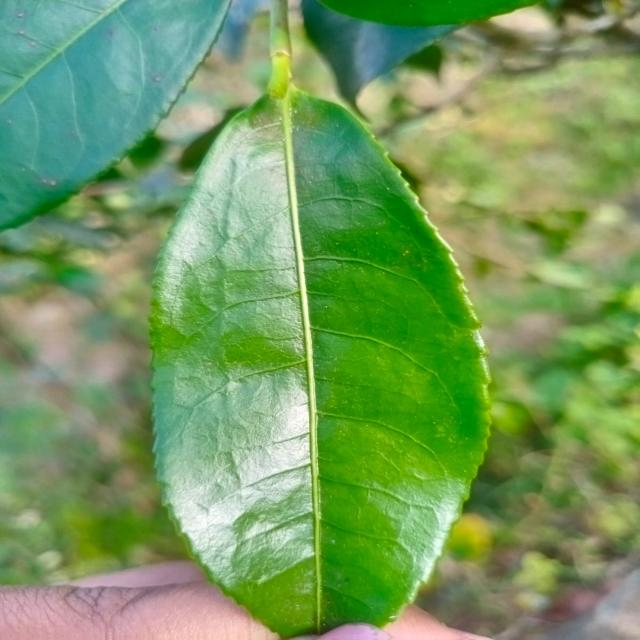Category D(7+ days, Not for Tea): (113, 58, 510, 640)
